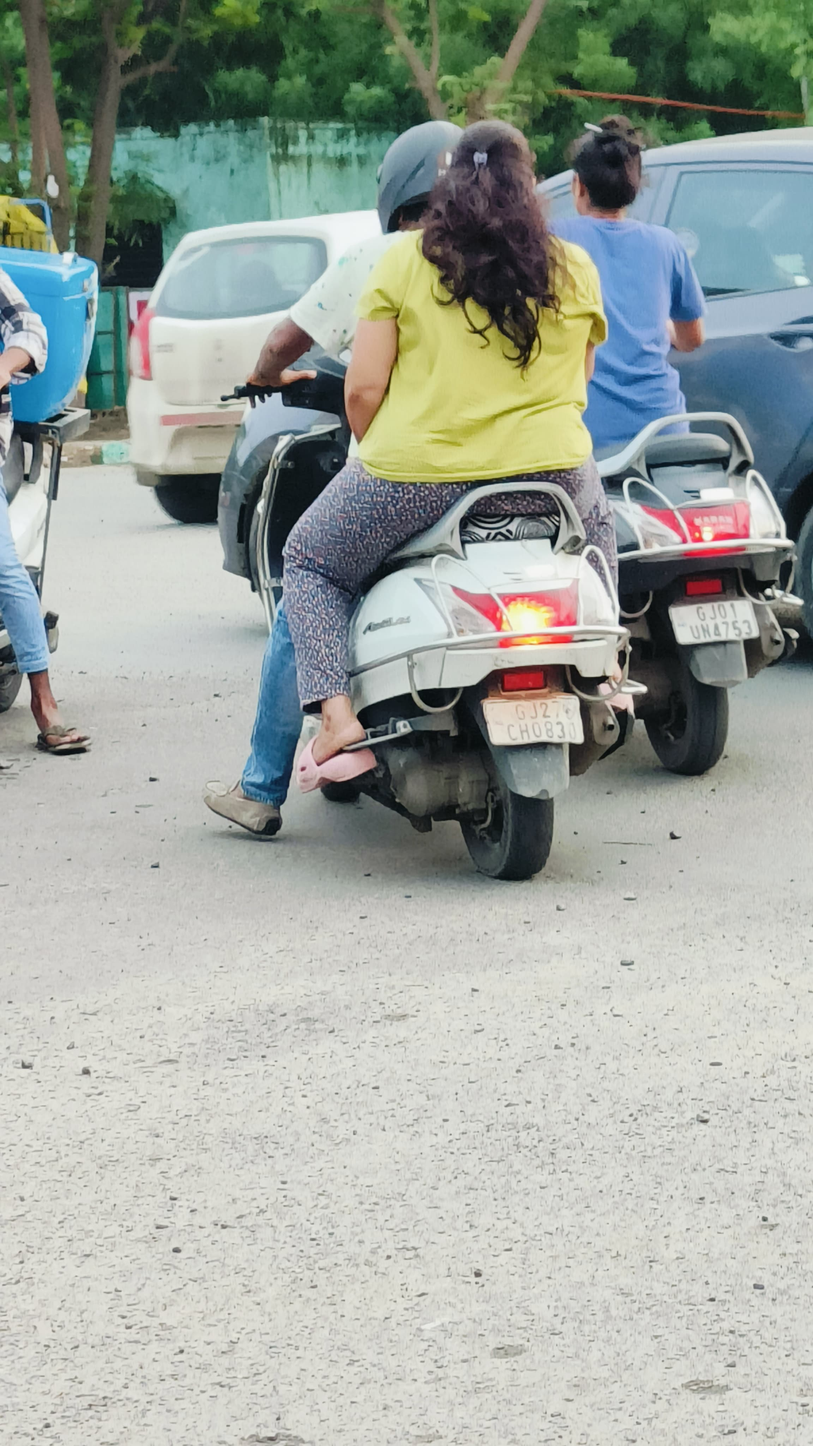BikeWithRider: (192, 105, 660, 890), (531, 112, 807, 786)
Helmet: (365, 110, 477, 243)
NoHelmet: (429, 111, 549, 247), (560, 118, 655, 228)
